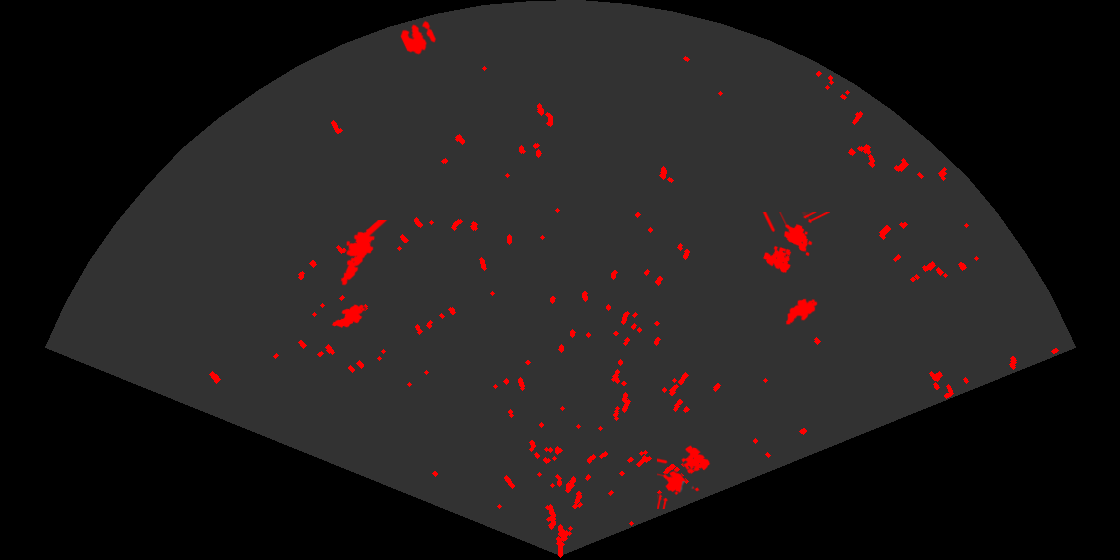AUV: (784, 297, 819, 326), (330, 303, 367, 329)
ball: (399, 19, 438, 56)
cage: (761, 212, 830, 275), (657, 444, 712, 509)
frogman: (339, 220, 389, 287)
